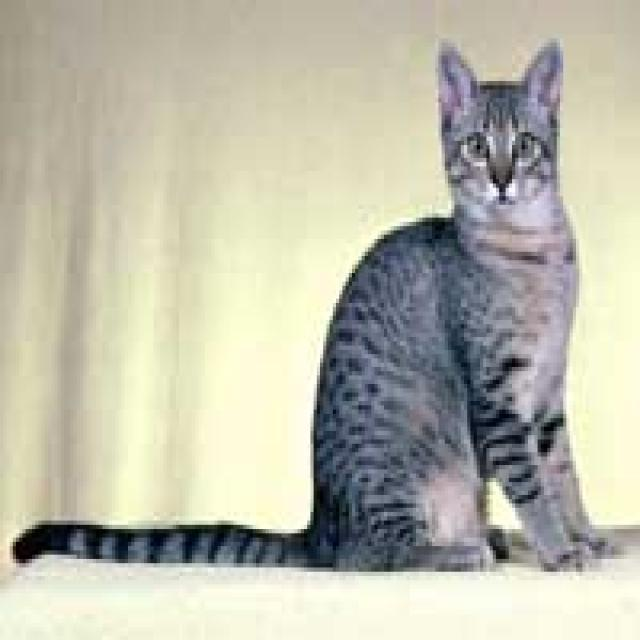Egyptian_Mau: (435, 34, 560, 218)
